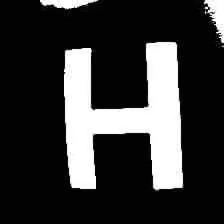LTR_H: (59, 30, 194, 198)
